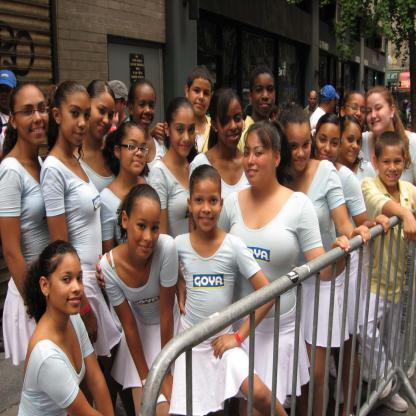face: (49, 256, 85, 316), (128, 199, 162, 260), (16, 91, 50, 147), (60, 93, 92, 147), (243, 133, 275, 187), (192, 180, 222, 232), (217, 99, 244, 150), (286, 120, 313, 171), (171, 109, 197, 158), (316, 123, 342, 170), (121, 131, 148, 176), (92, 94, 117, 141), (133, 88, 157, 131), (379, 145, 404, 186), (366, 95, 391, 134), (253, 77, 276, 118), (189, 80, 213, 117), (342, 123, 363, 164), (345, 95, 366, 133), (107, 95, 123, 123), (2, 83, 16, 111), (310, 93, 318, 107), (332, 97, 336, 114), (404, 105, 408, 111), (411, 112, 412, 115)
